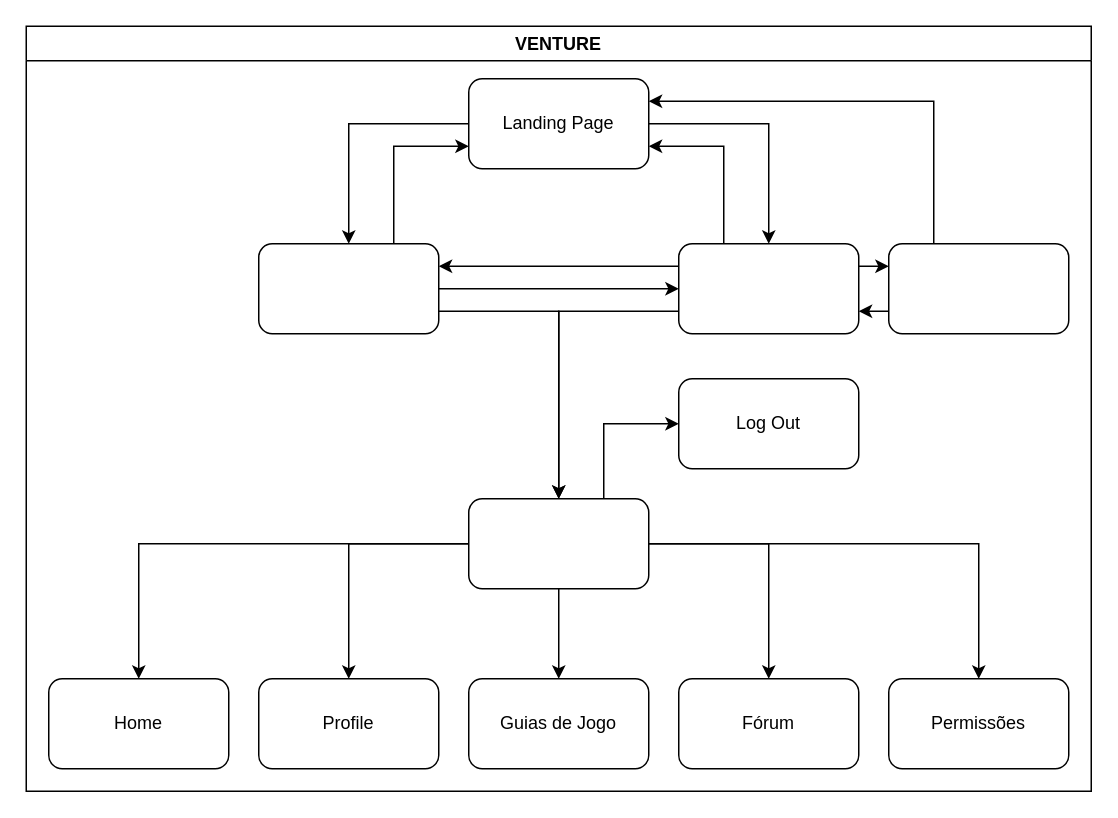
The diagram is 1118 pixels wide and 818 high, and some of its shapes have lost their labels. Each missing label, with the box of its shape:
Dashboard: (467, 497, 649, 589)
Reset Password: (887, 242, 1069, 334)
Sign In: (677, 242, 859, 334)
Sign Up: (257, 242, 439, 334)
